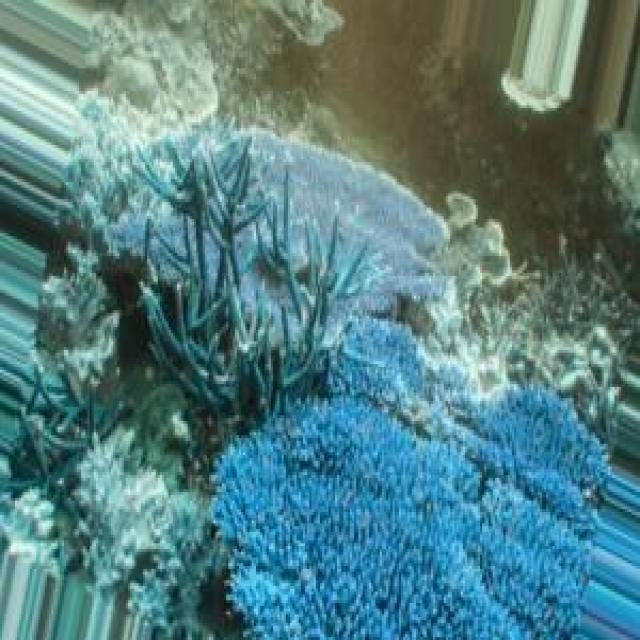Healthy: (212, 394, 594, 640), (123, 132, 342, 445)
